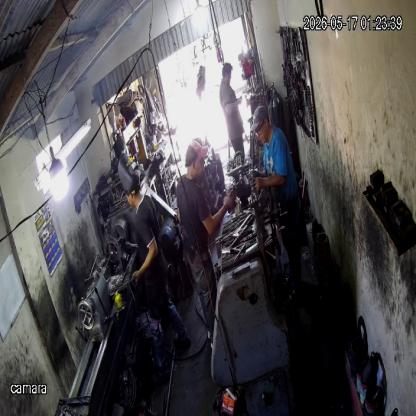lentes: (254, 117, 266, 133)
